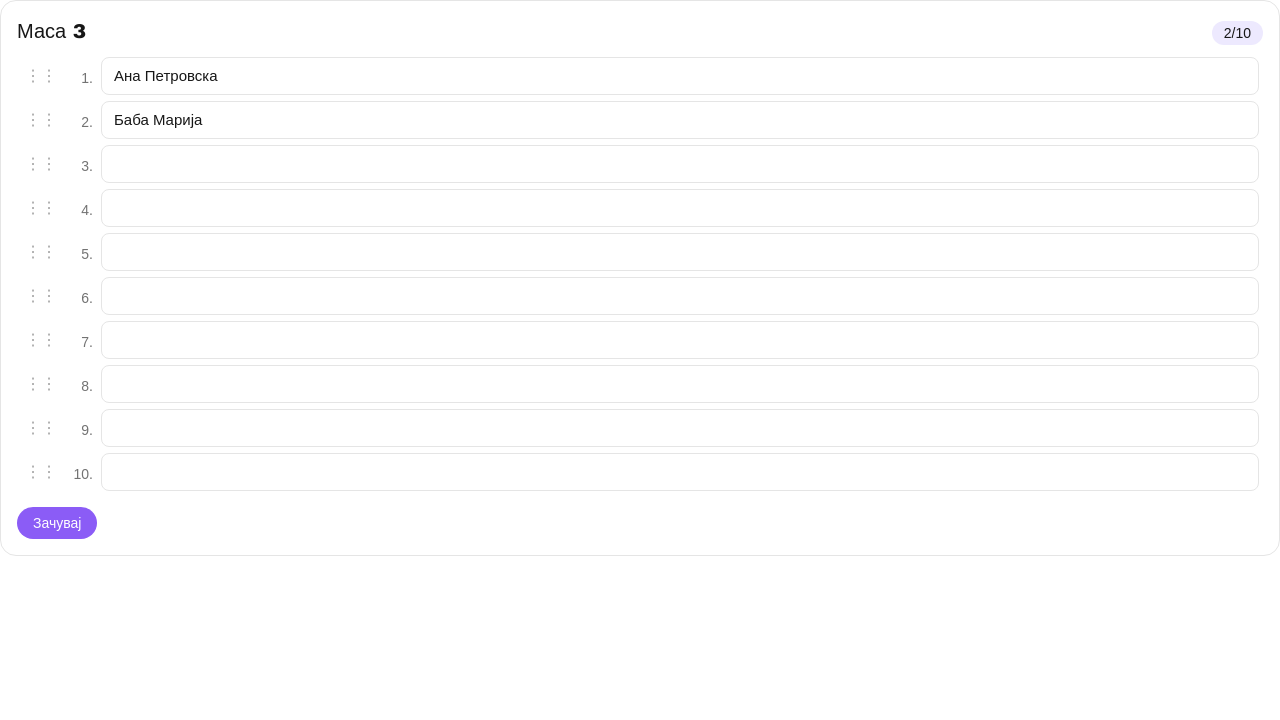
Test case: TableSeatsPanel › suggests only guests who still have a free seat
The width and height of the screenshot is (1280, 720).
Type "ан" into the field named "Столче 3" at (680, 164), box [101,145,1259,183]
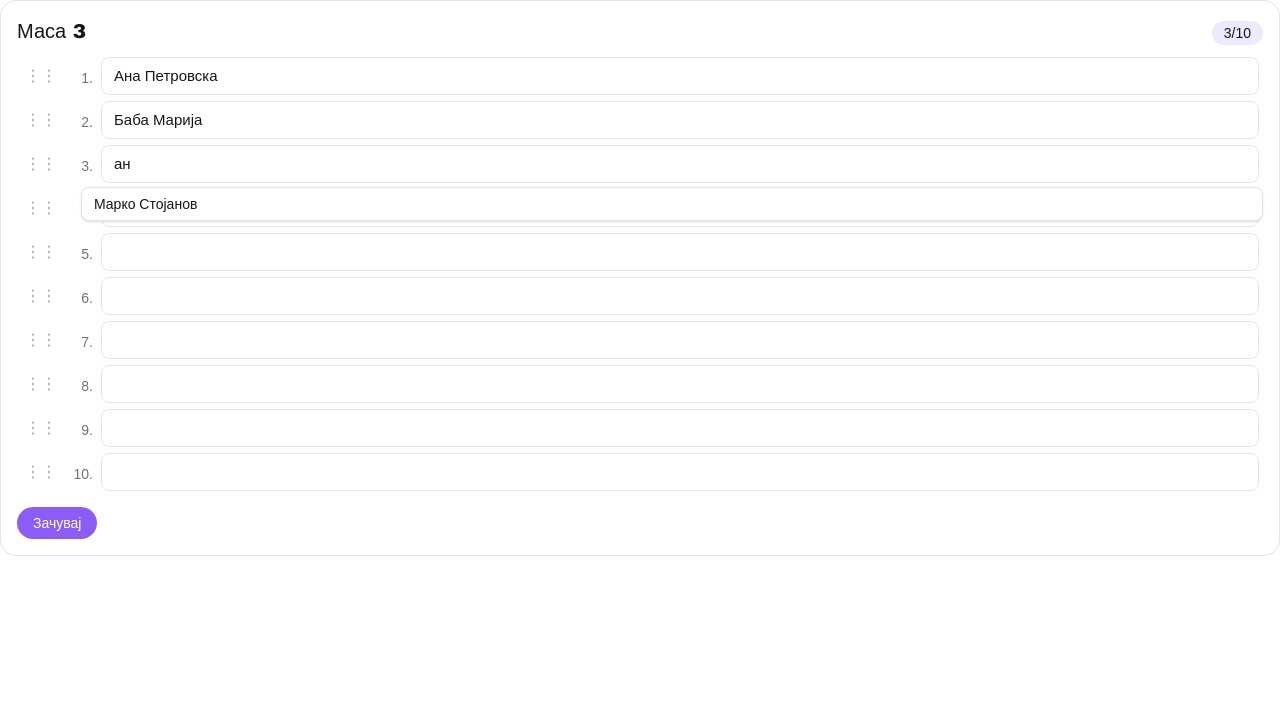
Clear the field named "Столче 3" at (680, 164), box [101,145,1259,183]
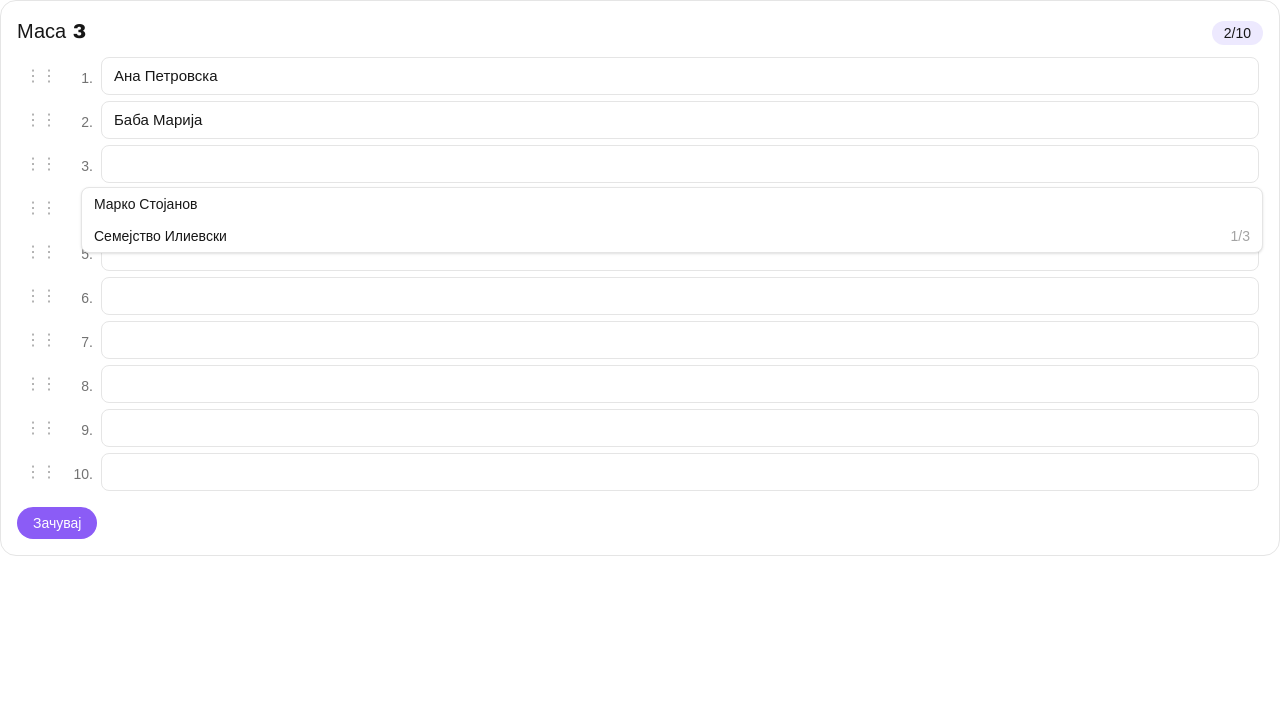
Check: the text "Марко Стојанов" is shown, box [94,194,197,214]
Check: the text "Семејство Илиевски" is shown, box [94,226,227,246]
